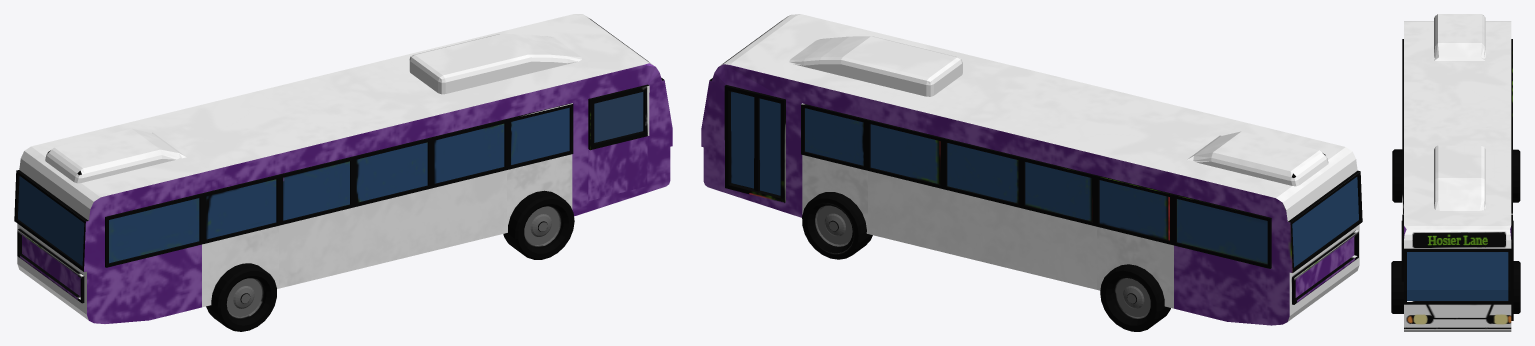
File: Bus_03.fbx
3 renders of one model, left to right at view 1: azimuth 30°, elevation 25°; view 2: azimuth 150°, elevation 25°; view 3: azimuth 270°, elevation 25°, orthographic. The views are drawn at different scales.
Visible parts, largest first — view 1: polySurface26; view 2: polySurface26; view 3: polySurface26.
Part boxes in pixels (left/top/right/bottom): polySurface26: left=14, top=14, right=672, bottom=331; polySurface26: left=701, top=14, right=1362, bottom=331; polySurface26: left=1391, top=14, right=1520, bottom=331.
Size of the model in its own units: 1258 by 368 by 311.
1 material, 1 textured.
